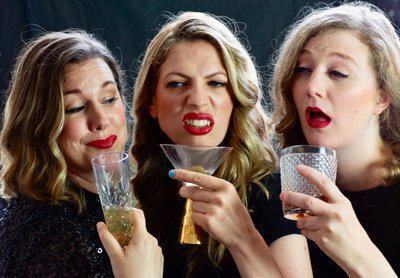Drunk: (295, 36, 368, 146), (160, 44, 232, 144), (58, 65, 127, 159)
